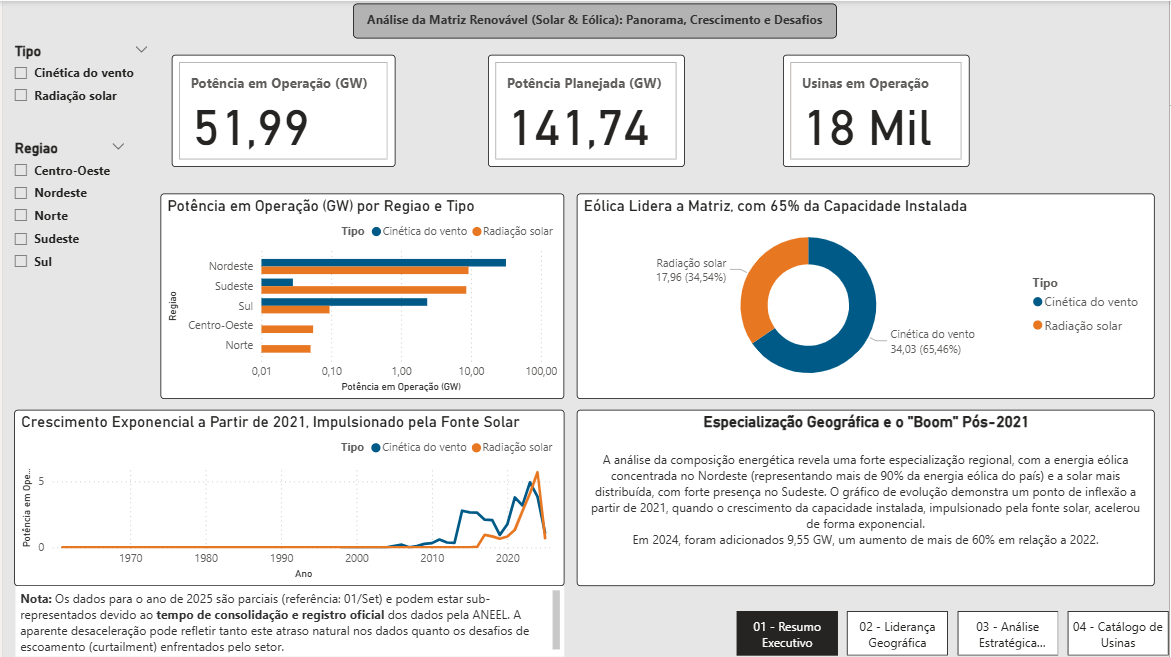

The page's visual inventory and layout, read from the dashboard file:
{"tool":"powerbi","page":{"name":"01 - Resumo Executivo","canvas":[1280,720],"ordinal":0},"visuals":[{"type":"textbox","box":[384.9,3,531.1,38.8],"z":0},{"type":"cardVisual","fields":{"Data":["_Medidas.Potência em Operação (GW)"]},"box":[185,58.7,245.7,123.3],"z":1000},{"type":"cardVisual","fields":{"Data":["_Medidas.Usinas em Operação"]},"box":[856.3,58.7,204.9,123.3],"z":2000},{"type":"cardVisual","fields":{"Data":["_Medidas.Potência Planejada (GW)"]},"box":[532.1,58.7,215.8,123.3],"z":3000},{"type":"lineChart","title":"Crescimento Exponencial a Partir de 2021, Impulsionado pela Fonte Solar","fields":{"Y":["_Medidas.Potência em Operação (GW)"],"Category":["fGeracao.Entrada em Operação.Variation.Hierarquia de datas.Ano"],"Series":["dFonte.Tipo"]},"box":[12.9,448.5,603.7,193.9],"z":4000},{"type":"slicer","fields":{"Values":["dLocalizacao.Regiao"]},"box":[0,148.7,145.9,175.6],"z":5000},{"type":"slicer","fields":{"Values":["dFonte.Tipo"]},"box":[0,41.1,171.4,87.8],"z":6000},{"type":"donutChart","title":"Eólica Lidera a Matriz, com 65% da Capacidade Instalada","fields":{"Category":["dFonte.Tipo"],"Y":["_Medidas.Potência em Operação (GW)"]},"box":[629.6,211.8,634.5,225.8],"z":7000},{"type":"textbox","title":"Especialização Geográfica e o \"Boom\" Pós-2021","box":[629.6,448.5,634.5,193.9],"z":8000},{"type":"textbox","box":[13.9,642.5,602.7,77.6],"z":9000},{"type":"clusteredBarChart","fields":{"Category":["dLocalizacao.Regiao"],"Y":["_Medidas.Potência em Operação (GW)"],"Series":["dFonte.Tipo"]},"box":[173.1,211.8,443.6,225.8],"z":10000},{"type":"pageNavigator","box":[805.8,669.9,474.4,49.6],"z":11000}]}

Visuals, with their boxes in screenshot pixels (x1, y1, x2, y2), scaled from the page's 1280x720 canvas onto the 1171x657 screenshot:
textbox: 352:3:838:38
cardVisual - _Medidas.Potência em Operação (GW): 169:54:394:166
cardVisual - _Medidas.Usinas em Operação: 783:54:971:166
cardVisual - _Medidas.Potência Planejada (GW): 487:54:684:166
"Crescimento Exponencial a Partir de 2021, Impulsionado pela Fonte Solar" lineChart: 12:409:564:586
slicer - dLocalizacao.Regiao: 0:136:133:296
slicer - dFonte.Tipo: 0:38:157:118
"Eólica Lidera a Matriz, com 65% da Capacidade Instalada" donutChart: 576:193:1156:399
"Especialização Geográfica e o "Boom" Pós-2021" textbox: 576:409:1156:586
textbox: 13:586:564:656
clusteredBarChart - dLocalizacao.Regiao x _Medidas.Potência em Operação (GW): 158:193:564:399
pageNavigator: 737:611:1170:656
